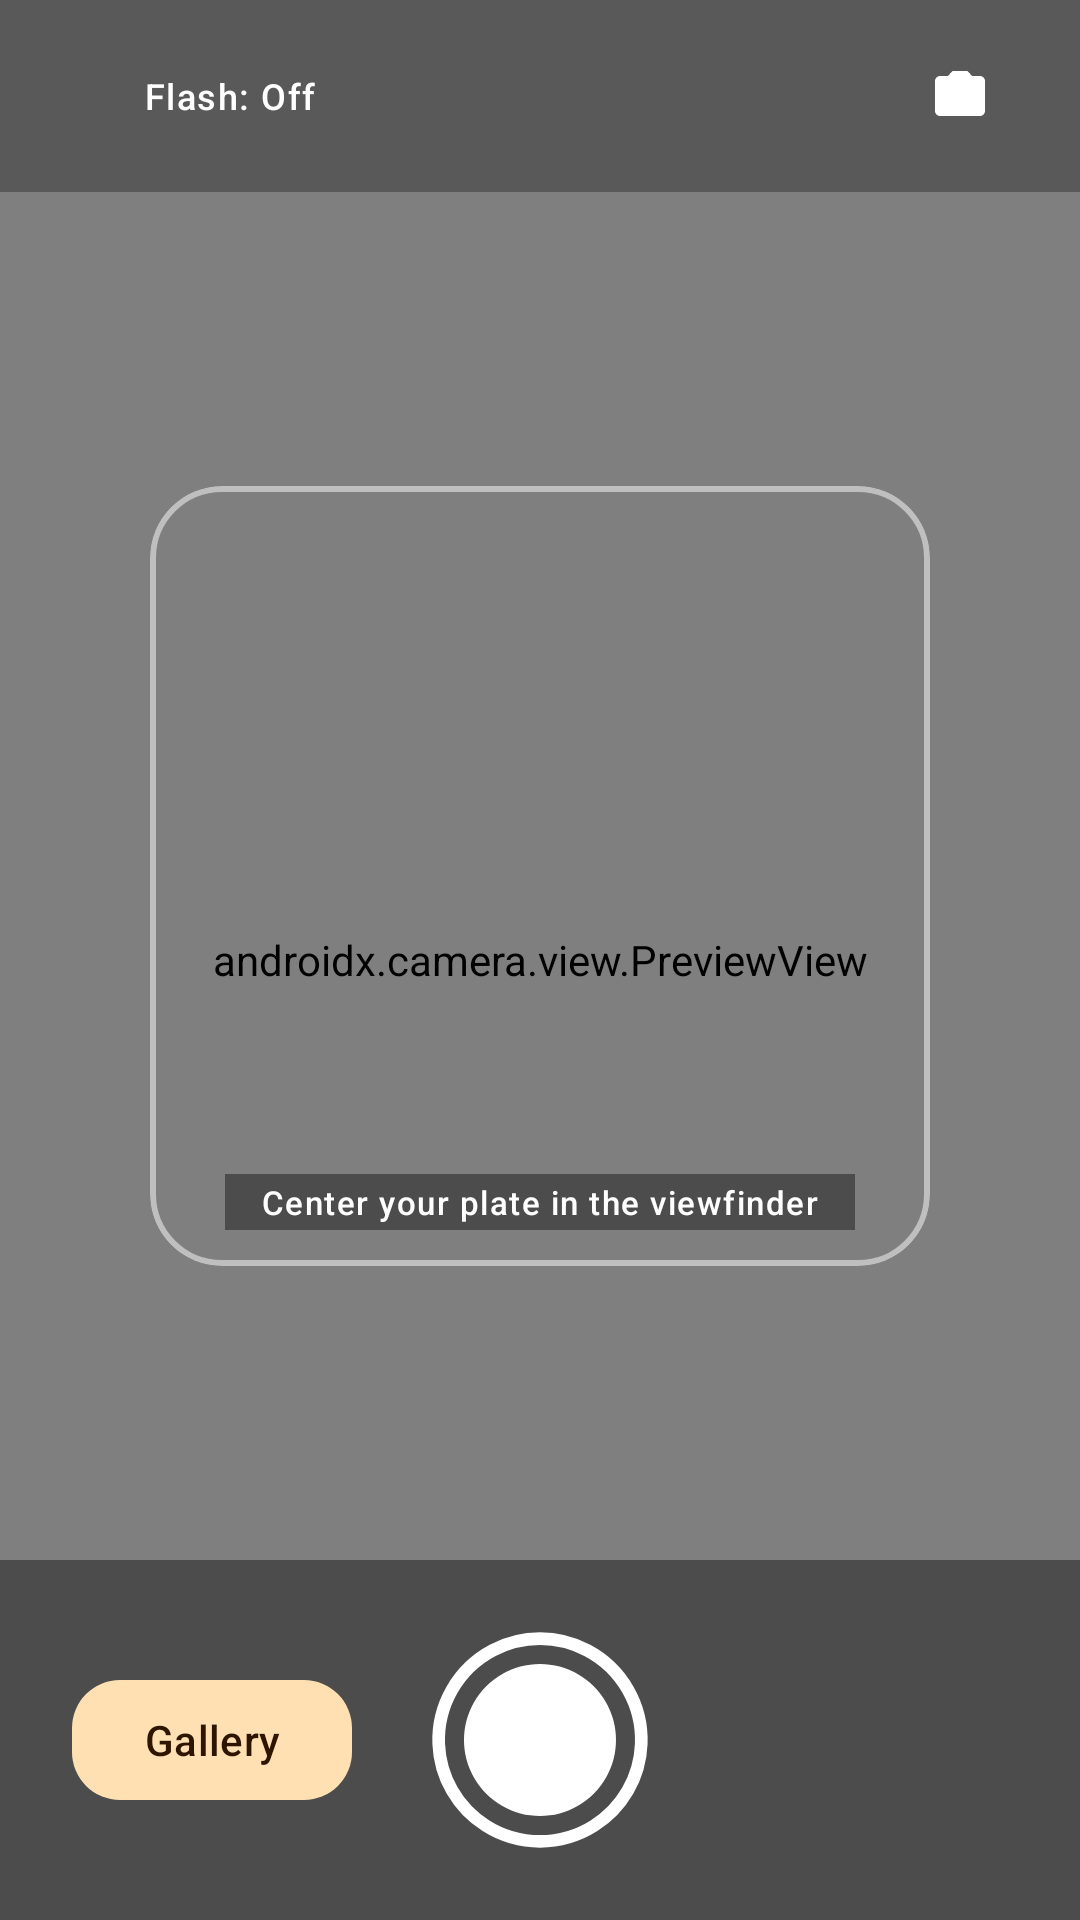

Screen size 1080×1920. Icon name, then its center in pixels as point (x, y):
Capture meal photo: point (540, 1740)
